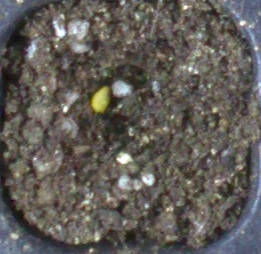pepper seed: (34, 27, 147, 141)
